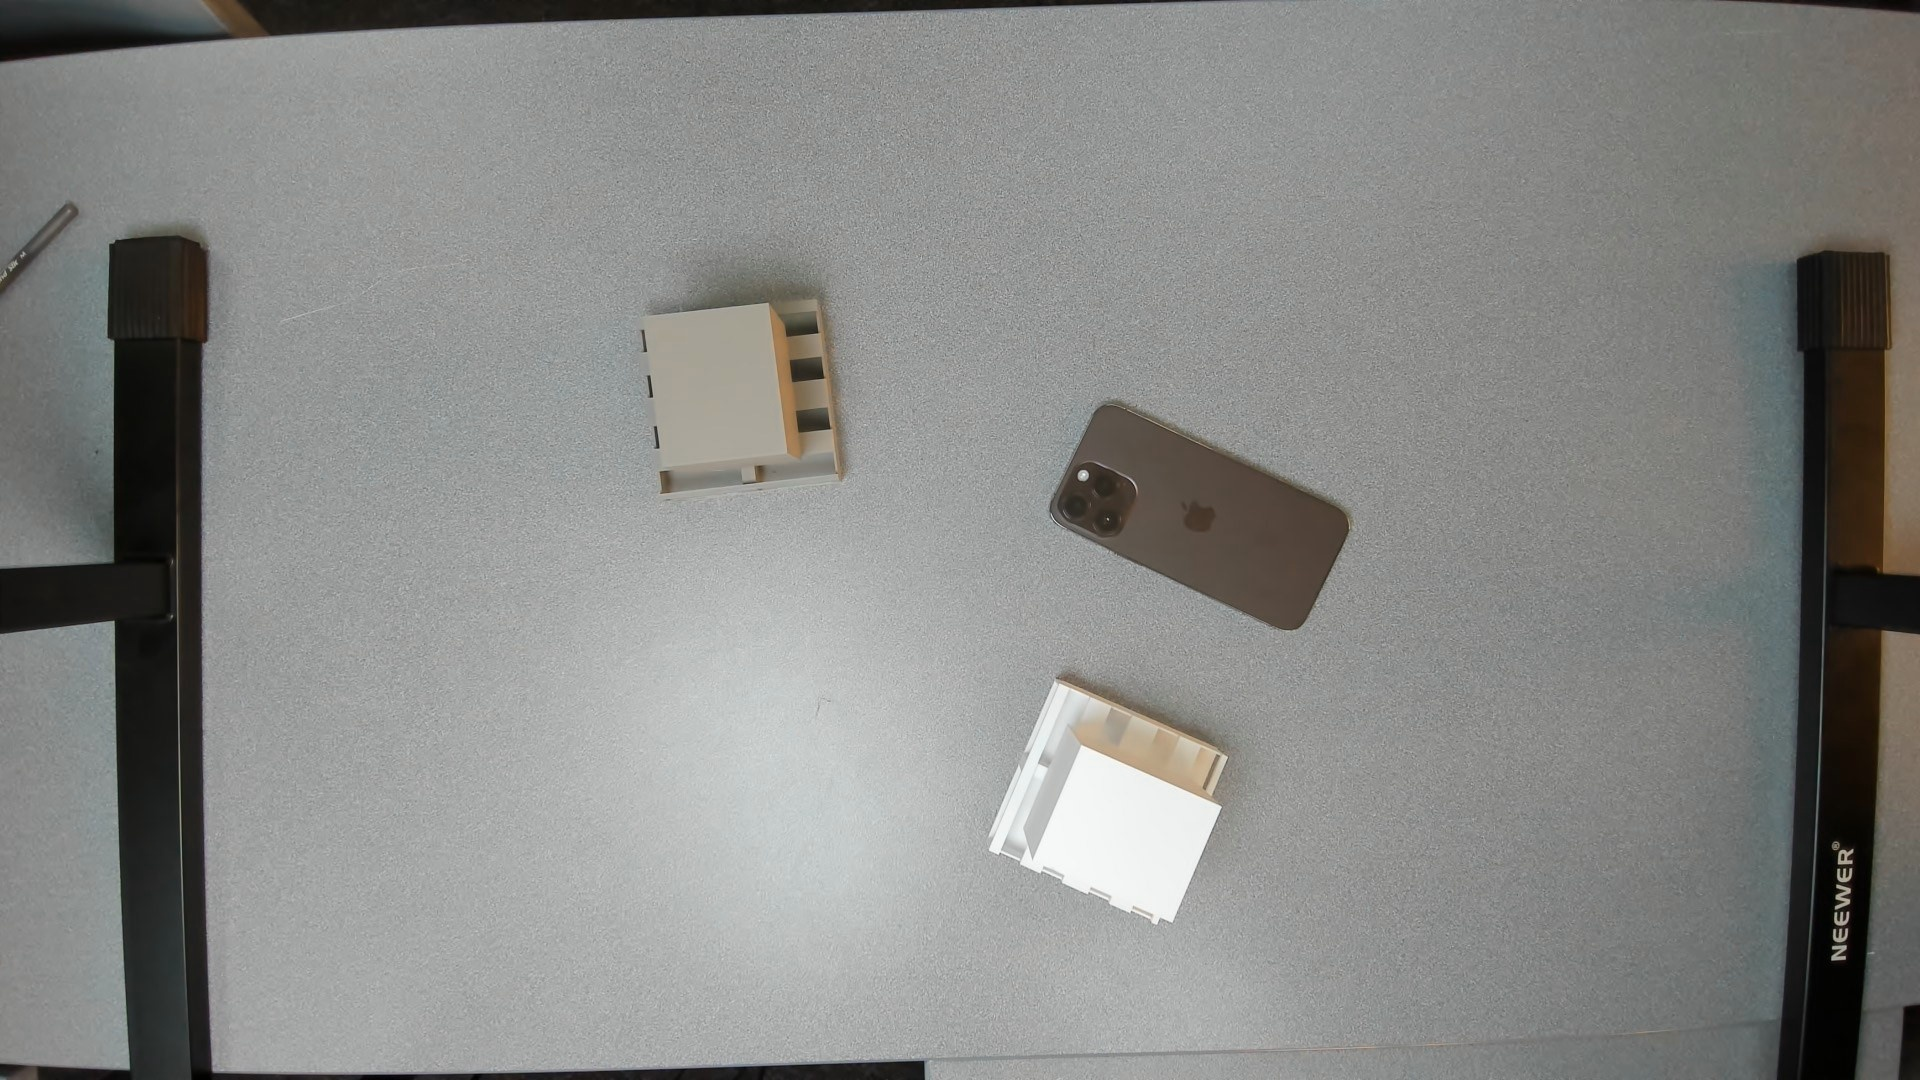grey pallet: (632, 287, 855, 501)
white pallet: (981, 671, 1233, 945)
